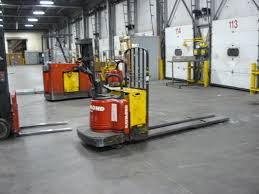Pallet Jack: (74, 46, 231, 152)
